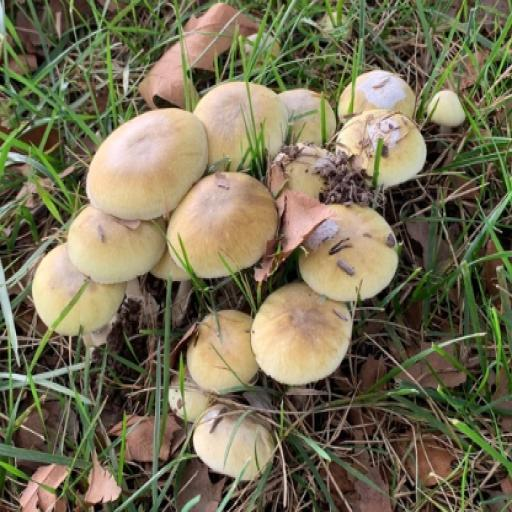mushroom: (18, 0, 470, 456)
